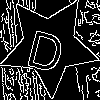D: (24, 20, 70, 74)
